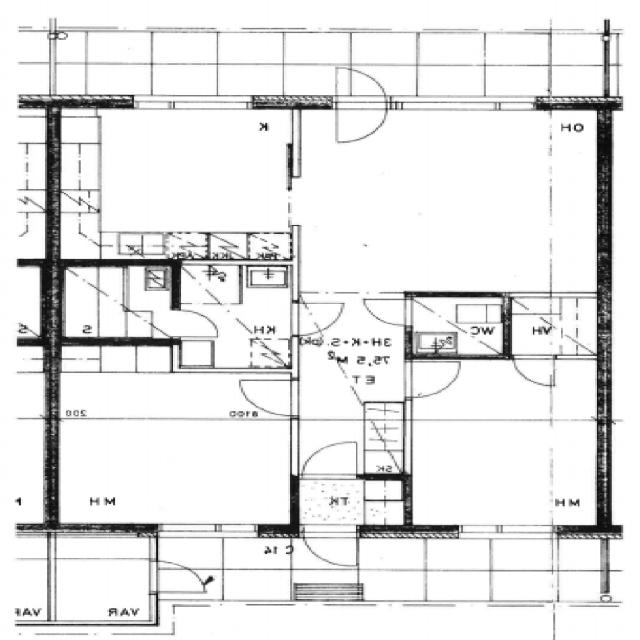door: (328, 64, 392, 149), (372, 292, 468, 340), (229, 370, 303, 419), (296, 437, 365, 483), (296, 522, 361, 569), (401, 356, 466, 402), (286, 294, 351, 339), (145, 556, 216, 596), (159, 303, 224, 343), (358, 291, 421, 330), (509, 353, 562, 390)
window: (389, 92, 544, 120), (122, 92, 256, 116), (447, 518, 560, 544), (157, 518, 265, 540)
zone: (286, 104, 601, 293), (48, 106, 305, 262), (404, 345, 606, 533), (53, 262, 180, 343), (501, 292, 605, 357), (407, 294, 506, 355), (292, 476, 414, 524)
